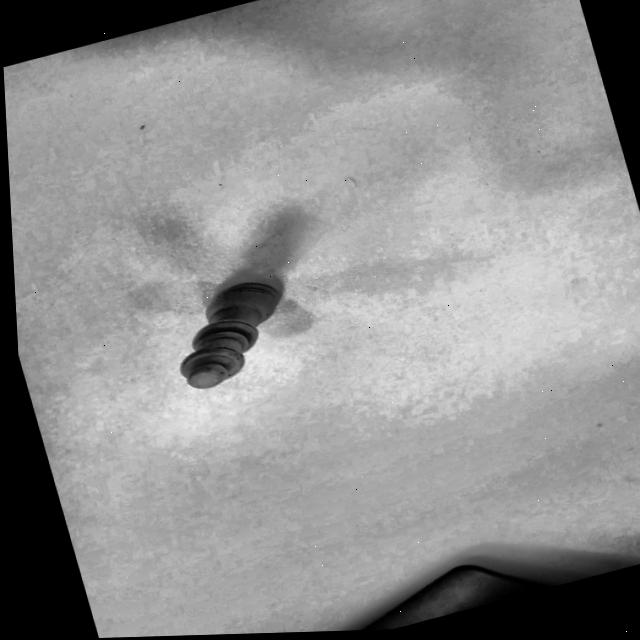white-queen: (95, 229, 351, 444)
